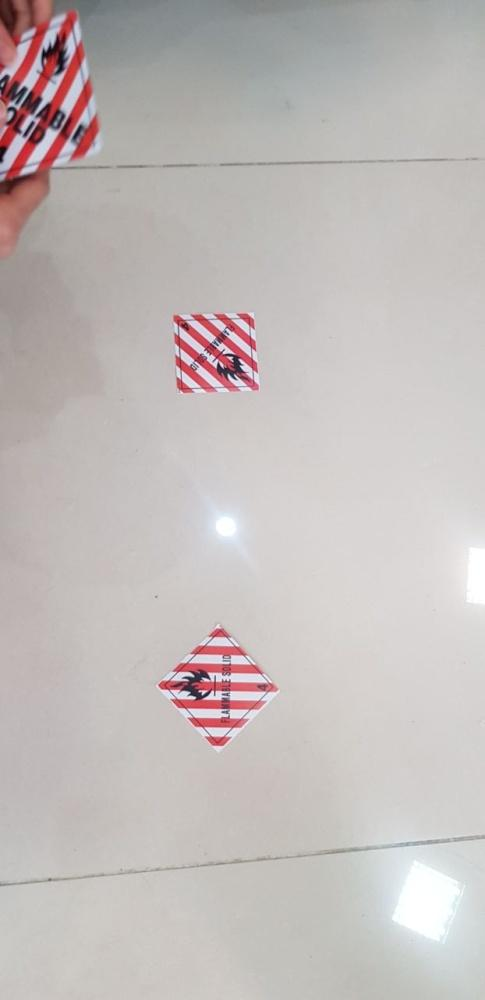flammable-solid: (1, 7, 101, 182), (159, 623, 279, 751), (174, 312, 258, 395)
